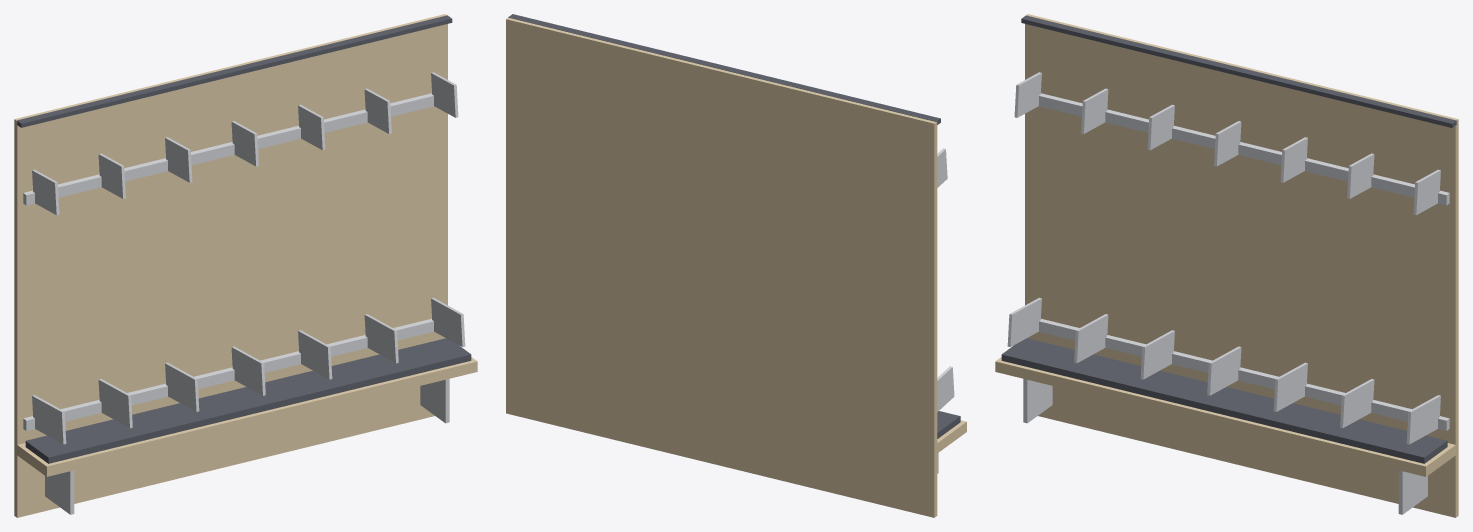
File: snowboard-gear-and-freestyle-riders-wall-board-rack-f8f84dcb__27177.glb
3 views of the same model, side by side, from view 1: azimuth 30°, elevation 25°; view 2: azimuth 150°, elevation 25°; view 3: azimuth 330°, elevation 25° (orthographic).
Visible parts, largest first — view 1: wall-board-rack; view 2: wall-board-rack; view 3: wall-board-rack.
Part boxes in pixels (x1,y1,x2,y2): wall-board-rack: (14, 14, 477, 517); wall-board-rack: (506, 14, 966, 517); wall-board-rack: (995, 14, 1458, 517).
Bounding box in the file's own units: 2.16 × 1.9 × 0.3016.
